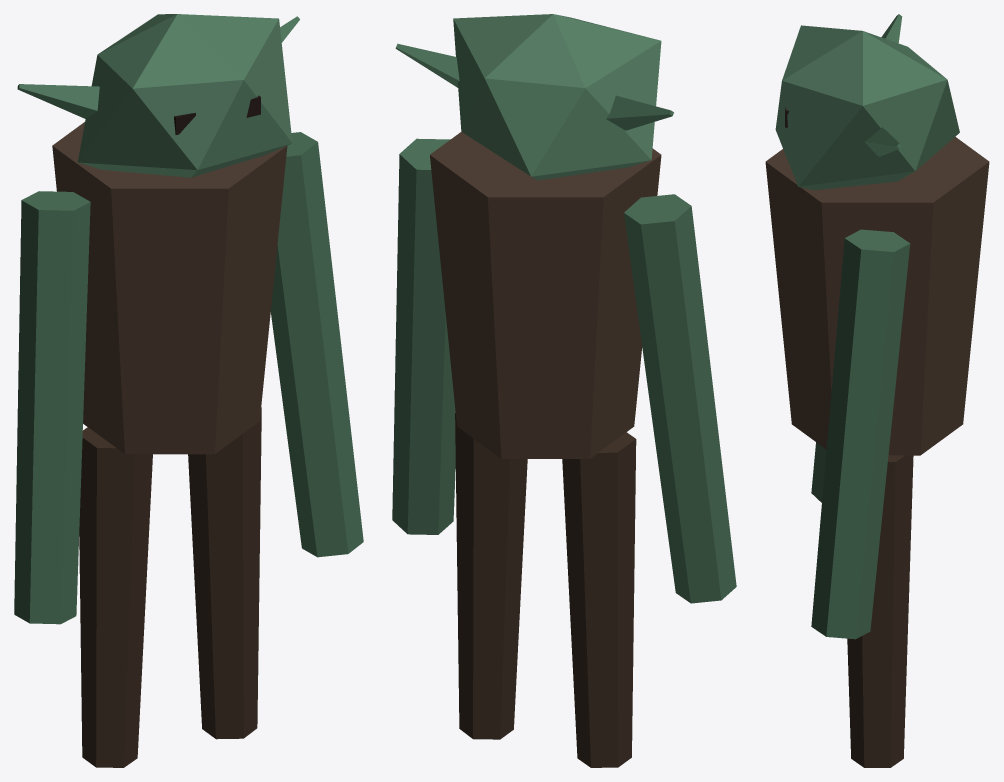
Rendered from goblin.glb.
3 views of the same model, side by side, from view 1: azimuth 30°, elevation 25°; view 2: azimuth 150°, elevation 25°; view 3: azimuth 270°, elevation 25° (orthographic). The views are drawn at different scales.
Visible parts, largest first — view 1: goblin; view 2: goblin; view 3: goblin.
Part boxes in pixels (x1=…): goblin: x1=14, y1=14, x2=363, y2=767; goblin: x1=392, y1=14, x2=736, y2=767; goblin: x1=765, y1=14, x2=989, y2=767.
Bounding box in the file's own units: 0.5019 × 1.06 × 0.306.
1 material, 1 textured.
